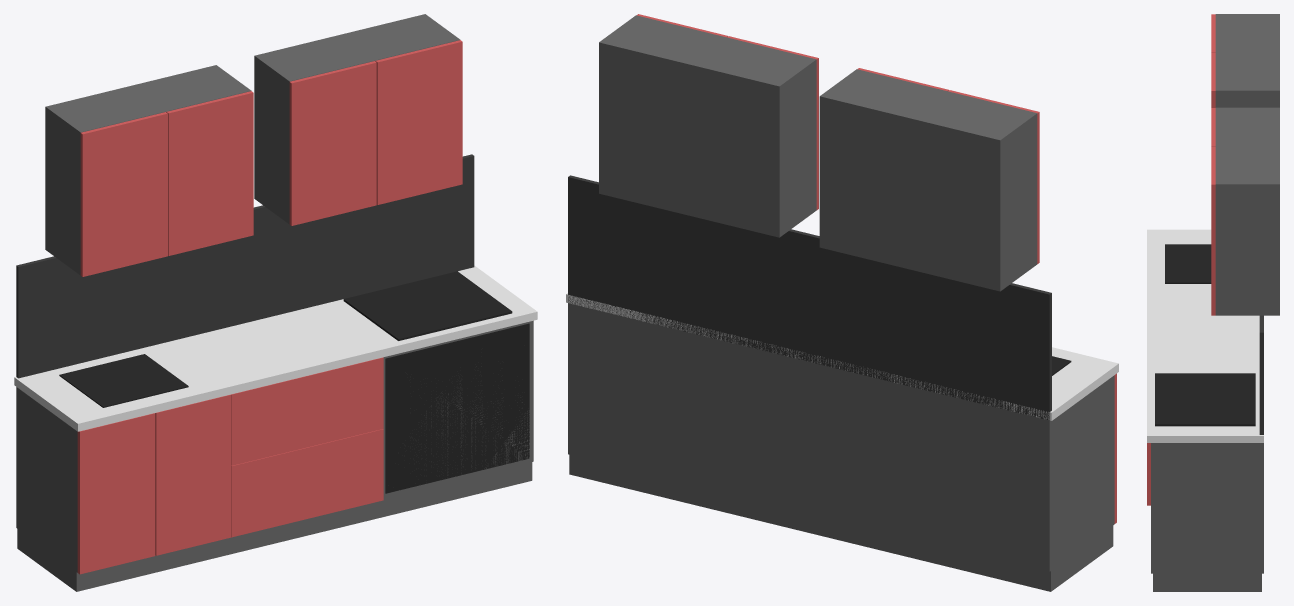
Rendered from kitchen_scene.glb.
The picture shows the model from 3 angles, left to right: view 1: azimuth 30°, elevation 25°; view 2: azimuth 150°, elevation 25°; view 3: azimuth 270°, elevation 25°; orthographic projection. The views are drawn at different scales.
Parts seen in each view (by area): view 1: Countertop_Backsplash, Countertop_Main, Appliances_Oven, Facades_Door_Upper_1, Facades_Door_Upper_3, Facades_Door_Upper_4, Facades_Door_Upper_2, Facades_Door_Lower_1, Frame_Cabinet_Upper_1, Frame_Cabinet_Upper_2, Facades_Door_Lower_2, Facades_Drawer_2 (+6 smaller); view 2: Countertop_Backsplash, Frame_Cabinet_Upper_1, Frame_Cabinet_Upper_2, Frame_Cabinet_Lower_1, Frame_Cabinet_Lower_2, Frame_Cabinet_Lower_3, Frame_Plinth, Countertop_Main; view 3: Frame_Cabinet_Lower_3, Frame_Cabinet_Upper_2, Countertop_Main, Frame_Cabinet_Upper_1, Appliances_Cooktop, Frame_Plinth, Countertop_Sink, Facades_Door_Upper_4, Countertop_Backsplash, Facades_Door_Upper_2, Facades_Drawer_2.
Boxes of the visible parts, bbox=[...] form: Countertop_Backsplash: bbox=[16, 154, 474, 378]; Countertop_Main: bbox=[14, 265, 537, 431]; Appliances_Oven: bbox=[385, 323, 529, 493]; Facades_Door_Upper_1: bbox=[80, 112, 167, 276]; Facades_Door_Upper_3: bbox=[289, 61, 376, 225]; Facades_Door_Upper_4: bbox=[375, 40, 462, 204]; Facades_Door_Upper_2: bbox=[166, 91, 253, 255]; Facades_Door_Lower_1: bbox=[77, 413, 155, 574]; Frame_Cabinet_Upper_1: bbox=[45, 65, 251, 275]; Frame_Cabinet_Upper_2: bbox=[254, 14, 460, 224]; Facades_Door_Lower_2: bbox=[155, 394, 231, 555]; Facades_Drawer_2: bbox=[231, 429, 383, 537]; Countertop_Backsplash: bbox=[568, 175, 1051, 420]; Frame_Cabinet_Upper_1: bbox=[819, 69, 1037, 291]; Frame_Cabinet_Upper_2: bbox=[599, 15, 816, 237]; Frame_Cabinet_Lower_1: bbox=[889, 375, 1114, 571]; Frame_Cabinet_Lower_2: bbox=[728, 342, 889, 532]; Frame_Cabinet_Lower_3: bbox=[568, 303, 728, 493]; Frame_Plinth: bbox=[569, 454, 1113, 591]; Countertop_Main: bbox=[566, 293, 1118, 420]; Frame_Cabinet_Lower_3: bbox=[1151, 443, 1263, 573]; Frame_Cabinet_Upper_2: bbox=[1215, 107, 1279, 315]; Countertop_Main: bbox=[1147, 229, 1263, 442]; Frame_Cabinet_Upper_1: bbox=[1215, 14, 1279, 107]; Appliances_Cooktop: bbox=[1155, 373, 1255, 426]; Frame_Plinth: bbox=[1153, 573, 1261, 591]; Countertop_Sink: bbox=[1165, 244, 1211, 283]; Facades_Door_Upper_4: bbox=[1211, 146, 1215, 315]; Countertop_Backsplash: bbox=[1259, 315, 1263, 434]; Facades_Door_Upper_2: bbox=[1211, 53, 1215, 107]; Facades_Drawer_2: bbox=[1147, 443, 1150, 505].
Size of the model in its own units: 2.42 by 2.14 by 0.66.
